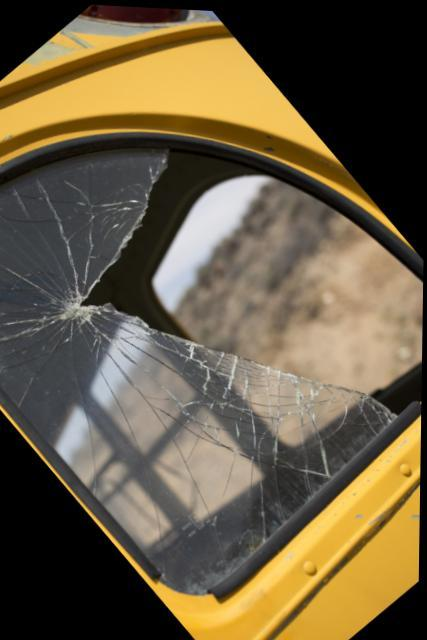glass shatter: (0, 146, 424, 591)
